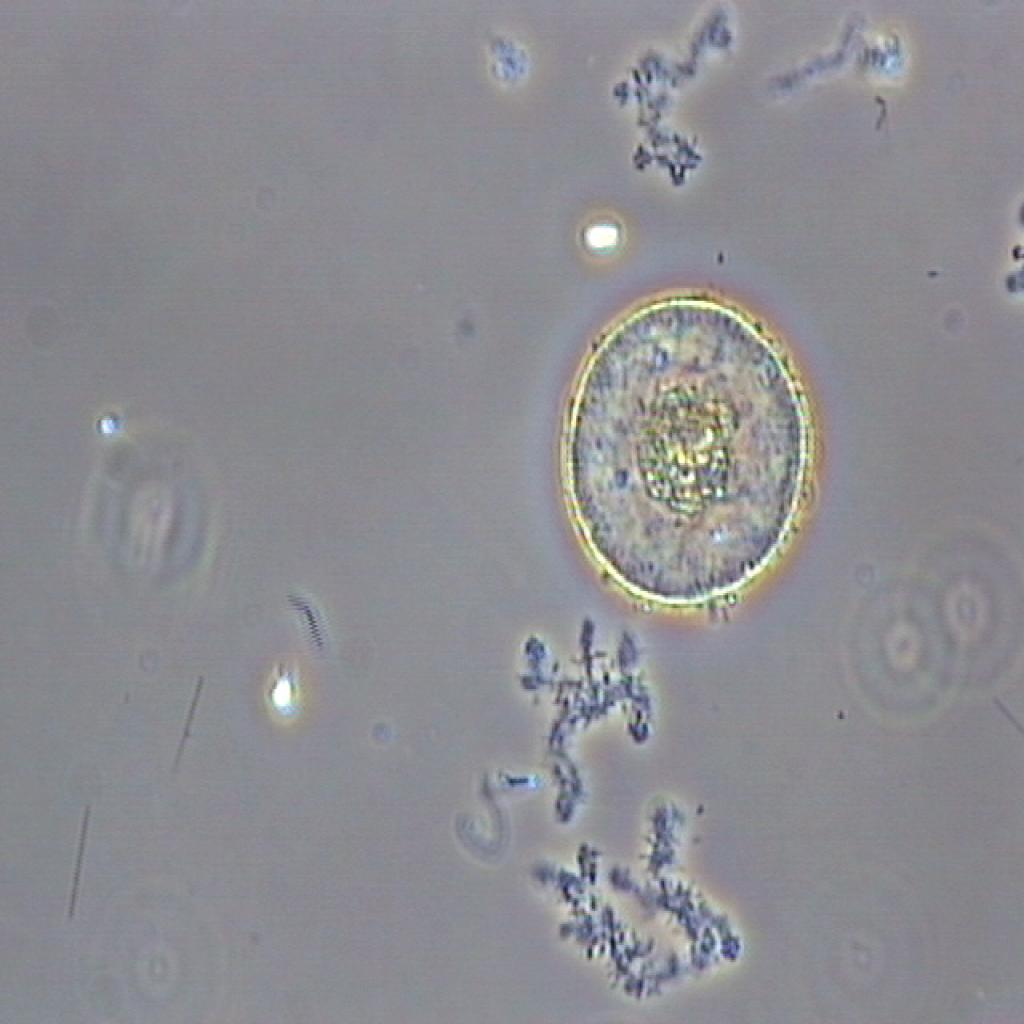Arcella: (551, 293, 838, 622)
